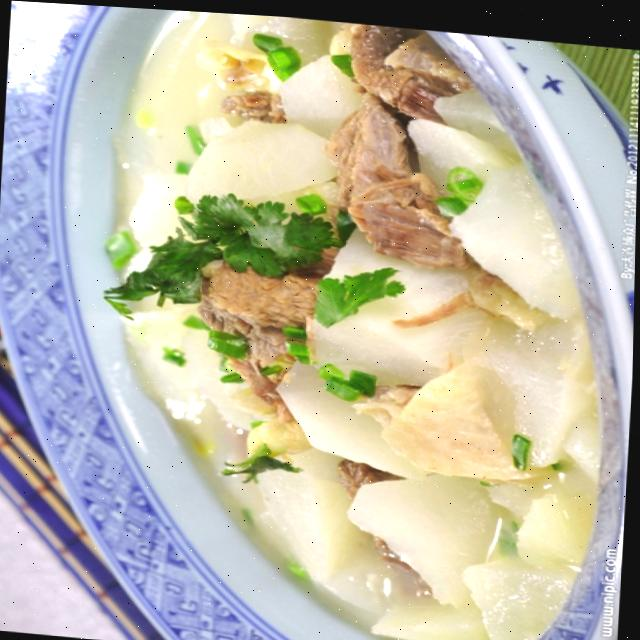汤锅炖物: (18, 5, 614, 640)
